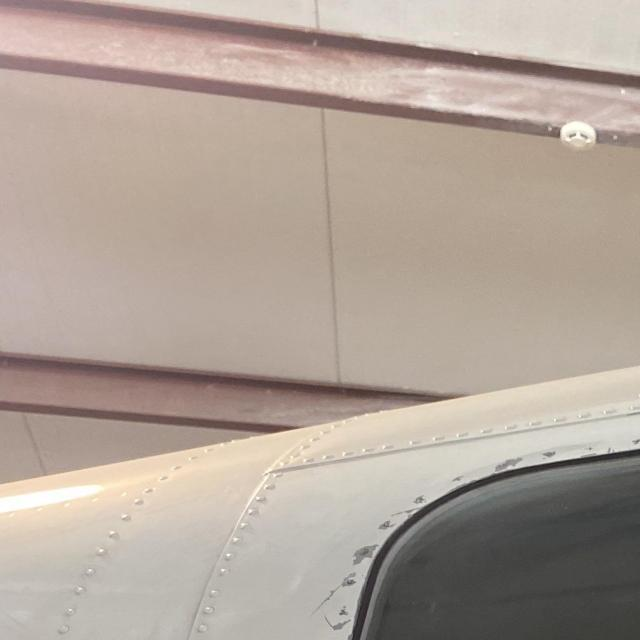Paint-off: (325, 616, 351, 630), (500, 455, 523, 470)
Scratch: (309, 583, 344, 618)
